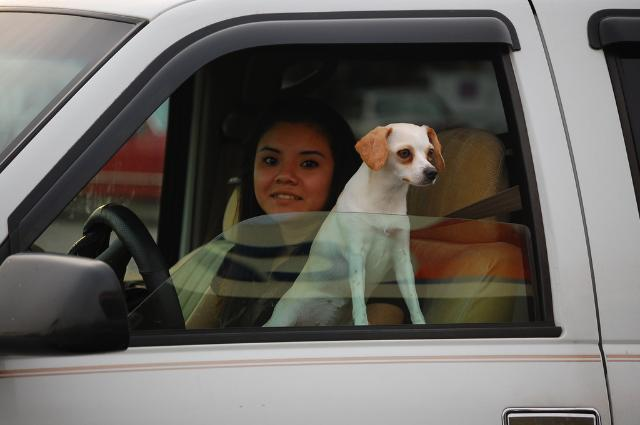SafeDriving: (294, 152, 326, 172), (256, 148, 284, 170)
Seatbelt: (410, 186, 522, 230)
